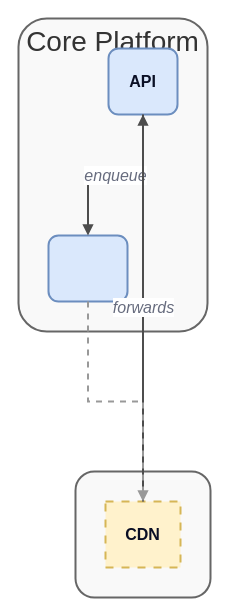
This 228x615 diagram has some shape labels left out. Each missing label, with the box of its shape:
Edge Layer: (74, 470, 211, 598)
Jobs: (47, 234, 128, 302)
